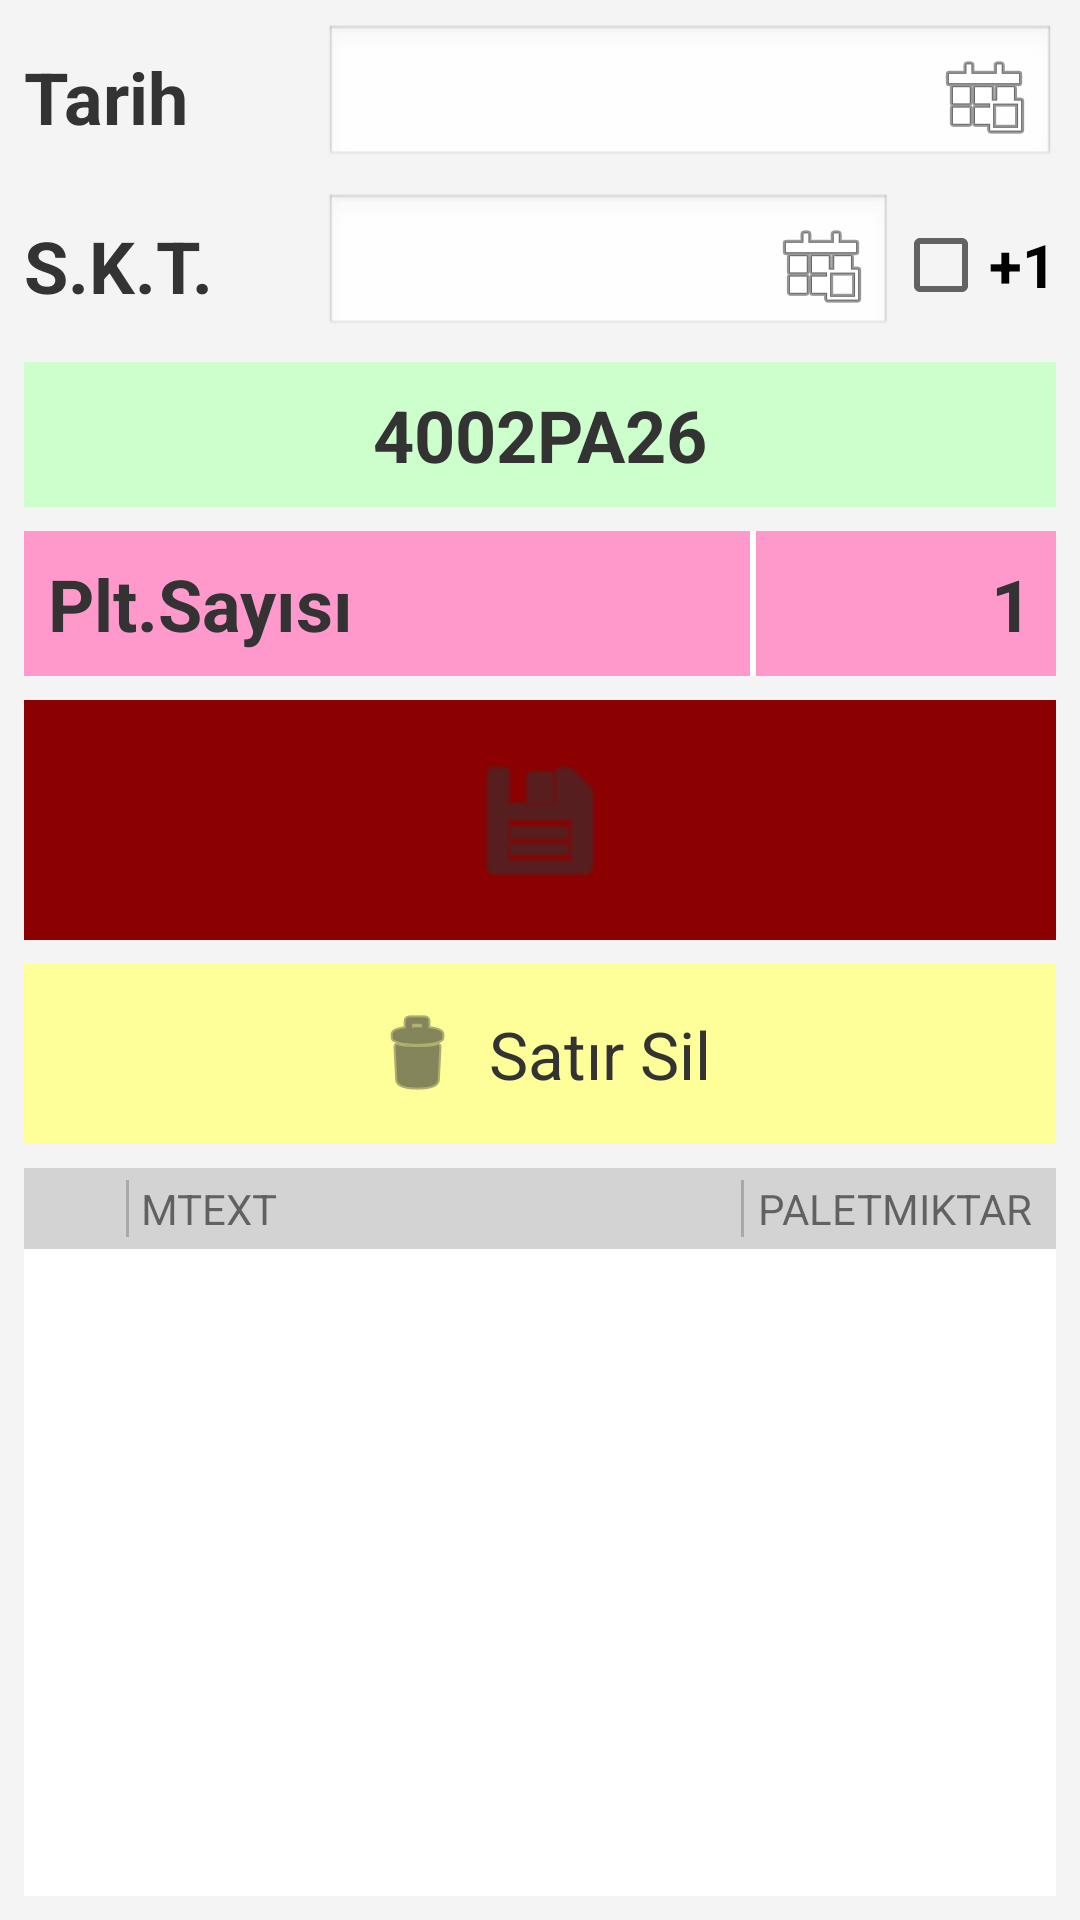

Where icons sit on this 1080px x 1920px app screen, as (left=x1, top=y1, right=x2, bottom=y2):
delete: (left=390, top=1015, right=445, bottom=1090)
